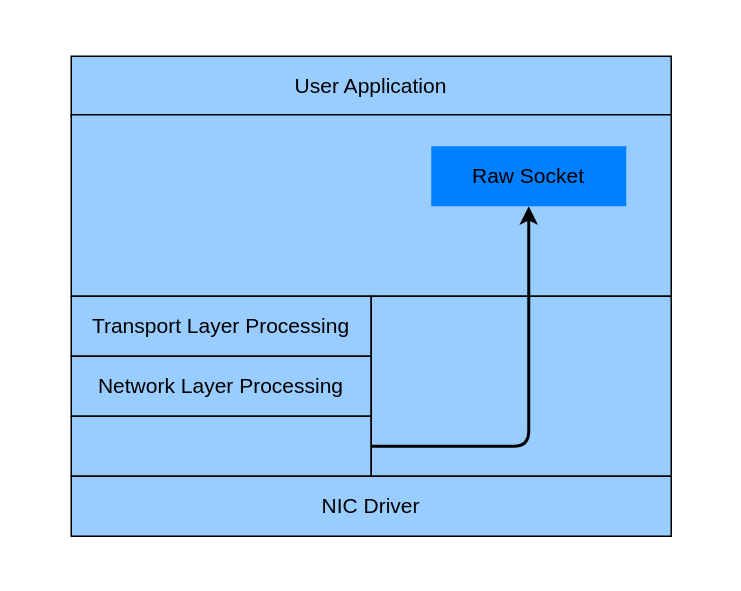
Some shapes in this 741 by 591 pixel diagram are drawn without their labels. The shapes that lost their labels are listed below. From the top down, each one's box as (x1, y1, x2, y2) in pixels, then its label:
(70, 113, 671, 296): Socket Interface
(70, 415, 371, 476): Data Link Layer Processing
